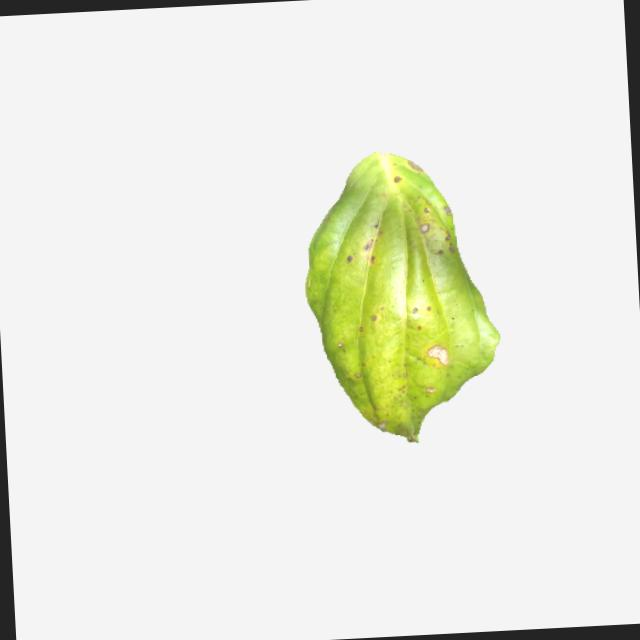yellow-mottle-virus: (284, 138, 505, 445)
